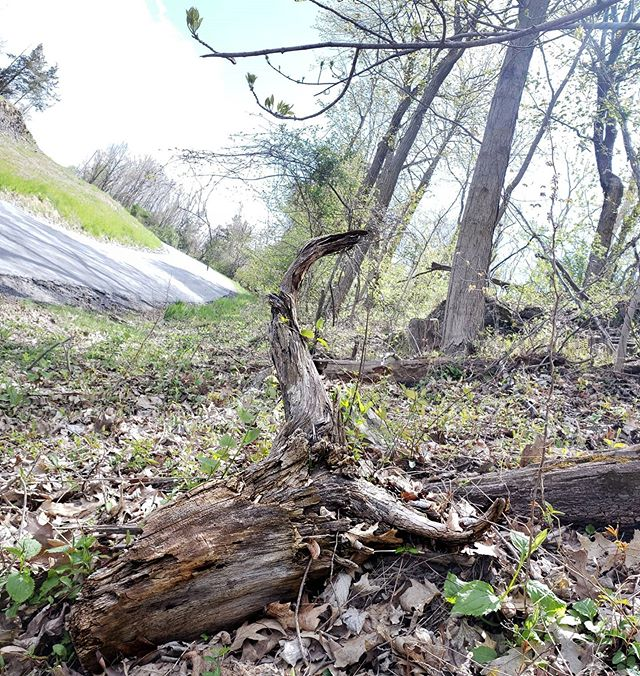sky: (46, 1, 272, 165)
street: (1, 198, 237, 302)
tree trunk: (64, 291, 467, 655)
vegetation: (248, 1, 640, 372)
